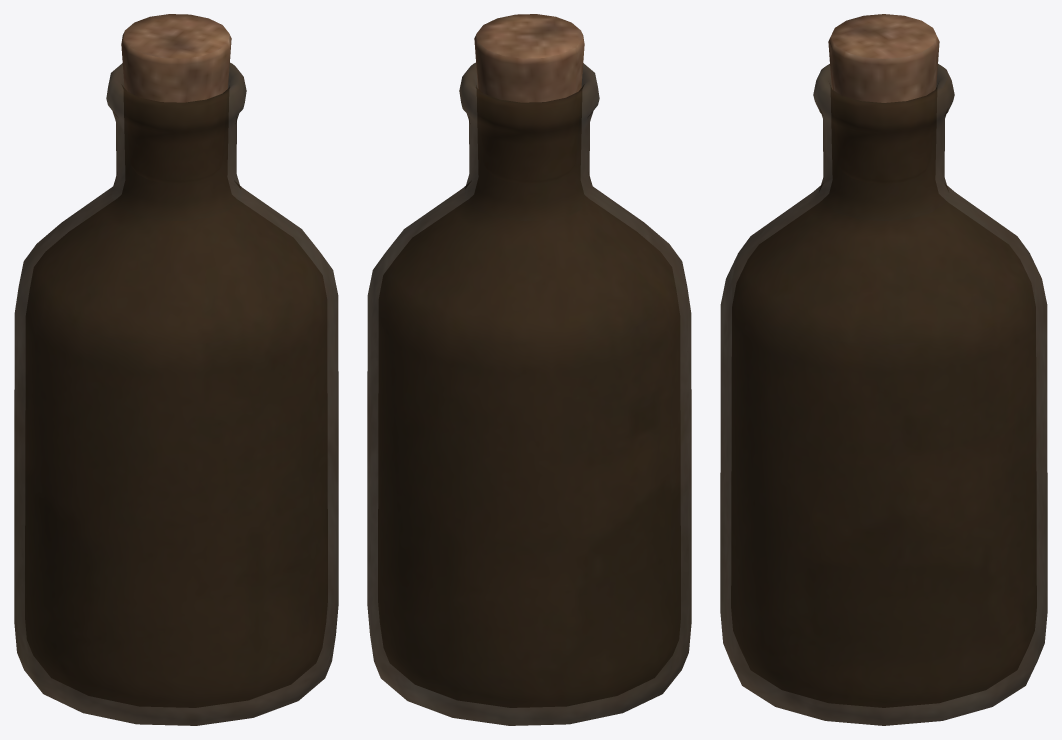
File: bottle_dark_d.glb
3 views of the same model, side by side, from view 1: azimuth 30°, elevation 25°; view 2: azimuth 150°, elevation 25°; view 3: azimuth 270°, elevation 25° (orthographic).
Visible parts, largest first — view 1: chemistry_set_bottle_dark_d.001, chemistry_set_bottle_dark_d_cork.001; view 2: chemistry_set_bottle_dark_d.001, chemistry_set_bottle_dark_d_cork.001; view 3: chemistry_set_bottle_dark_d.001, chemistry_set_bottle_dark_d_cork.001.
Part boxes in pixels (<box>): chemistry_set_bottle_dark_d.001: <box>14,62,338,725</box>; chemistry_set_bottle_dark_d_cork.001: <box>121,14,231,123</box>; chemistry_set_bottle_dark_d.001: <box>367,62,691,725</box>; chemistry_set_bottle_dark_d_cork.001: <box>474,14,584,102</box>; chemistry_set_bottle_dark_d.001: <box>720,64,1047,725</box>; chemistry_set_bottle_dark_d_cork.001: <box>828,14,939,102</box>.
Bounding box in the file's own units: 0.0499 × 0.1069 × 0.0499.
Materials: 2 (2 with a texture image).
